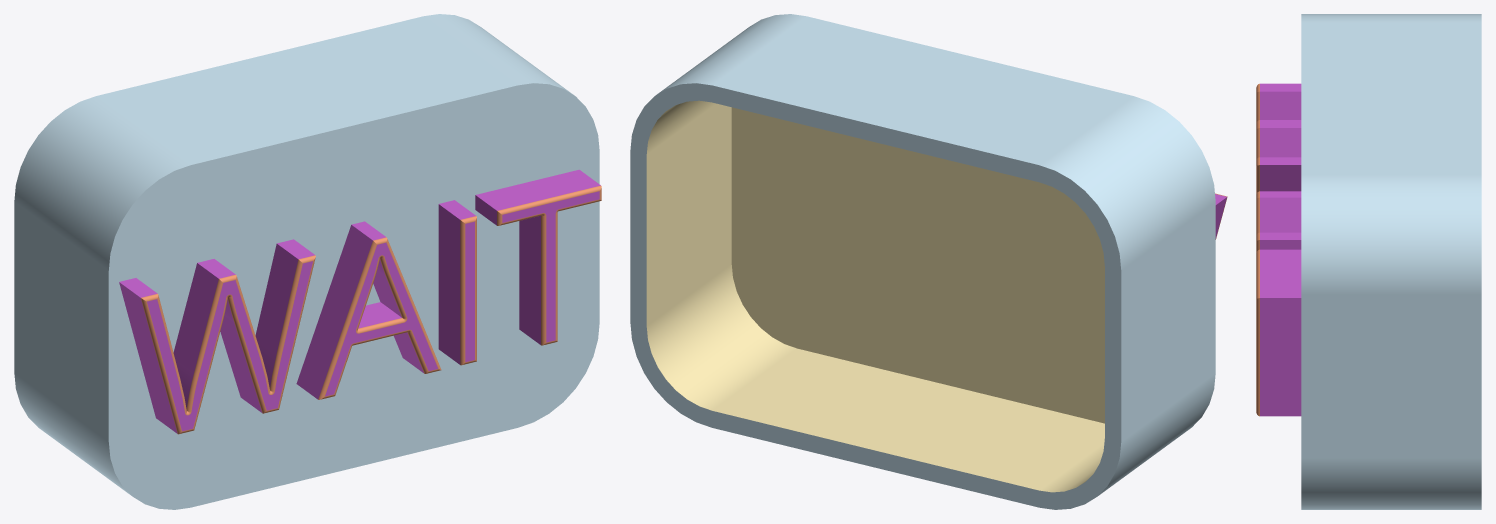
File: wait.gltf
The picture shows the model from 3 angles, left to right: view 1: azimuth 30°, elevation 25°; view 2: azimuth 150°, elevation 25°; view 3: azimuth 270°, elevation 25°; orthographic projection. The views are drawn at different scales.
Visible parts, largest first — view 1: mesh19_meshnode_19, mesh20_meshnode_20, mesh21_meshnode_21, mesh27_meshnode_27, mesh96_meshnode_96, mesh52_meshnode_52, mesh24_meshnode_24, mesh56_meshnode_56, mesh100_meshnode_100, mesh26_meshnode_26, mesh6_meshnode_6, mesh36_meshnode_36 (+11 smaller); view 2: mesh117_meshnode_117, mesh20_meshnode_20, mesh119_meshnode_119, mesh115_meshnode_115, mesh21_meshnode_21, mesh27_meshnode_27, mesh120_meshnode_120, mesh122_meshnode_122, mesh24_meshnode_24, mesh26_meshnode_26, mesh123_meshnode_123, mesh121_meshnode_121; view 3: mesh23_meshnode_23, mesh20_meshnode_20, mesh26_meshnode_26, mesh25_meshnode_25, mesh13_meshnode_13, mesh4_meshnode_4, mesh27_meshnode_27, mesh50_meshnode_50, mesh34_meshnode_34, mesh39_meshnode_39, mesh29_meshnode_29, mesh8_meshnode_8 (+7 smaller).
Part boxes in pixels (x1,y1,x2,y2): mesh19_meshnode_19: (108, 83, 599, 509); mesh20_meshnode_20: (96, 16, 517, 165); mesh21_meshnode_21: (14, 202, 108, 441); mesh27_meshnode_27: (14, 96, 189, 270); mesh96_meshnode_96: (147, 261, 312, 431); mesh52_meshnode_52: (296, 225, 372, 399); mesh24_meshnode_24: (14, 373, 131, 495); mesh56_meshnode_56: (438, 204, 460, 364); mesh100_meshnode_100: (325, 242, 437, 396); mesh26_meshnode_26: (424, 14, 573, 94); mesh6_meshnode_6: (519, 215, 540, 344); mesh36_meshnode_36: (173, 263, 218, 372); mesh117_meshnode_117: (731, 107, 1104, 423); mesh20_meshnode_20: (712, 16, 1133, 165); mesh119_meshnode_119: (712, 348, 1104, 490); mesh115_meshnode_115: (630, 83, 1121, 509); mesh21_meshnode_21: (1121, 202, 1215, 441); mesh27_meshnode_27: (1040, 96, 1215, 270); mesh120_meshnode_120: (646, 103, 731, 325); mesh122_meshnode_122: (646, 264, 796, 410); mesh24_meshnode_24: (1098, 373, 1215, 495); mesh26_meshnode_26: (657, 14, 805, 94); mesh123_meshnode_123: (646, 100, 716, 154); mesh121_meshnode_121: (1040, 443, 1104, 492); mesh23_meshnode_23: (1301, 294, 1481, 457); mesh20_meshnode_20: (1301, 22, 1481, 174); mesh26_meshnode_26: (1301, 174, 1481, 294); mesh25_meshnode_25: (1301, 458, 1481, 509); mesh13_meshnode_13: (1260, 312, 1301, 416); mesh4_meshnode_4: (1260, 249, 1301, 297); mesh27_meshnode_27: (1301, 14, 1481, 22); mesh50_meshnode_50: (1260, 197, 1301, 232); mesh34_meshnode_34: (1260, 128, 1301, 157); mesh39_meshnode_39: (1260, 91, 1301, 119); mesh29_meshnode_29: (1260, 165, 1301, 191); mesh8_meshnode_8: (1260, 298, 1301, 312).
Size of the model in its own units: 0.0762 by 0.0508 by 0.0318.
